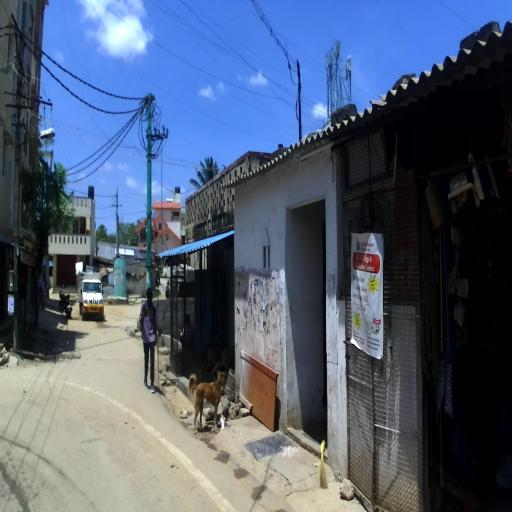street_light_0: (17, 128, 55, 170)
